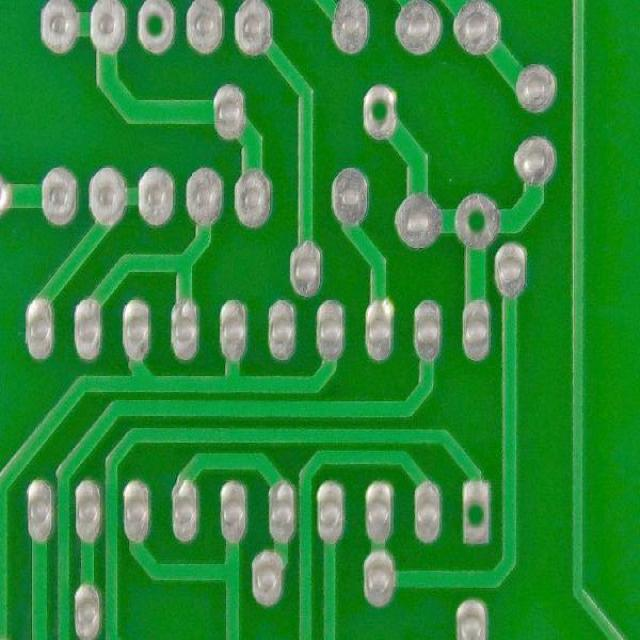missing hole: (454, 470, 502, 550), (358, 76, 406, 149), (452, 189, 503, 251), (134, 1, 177, 60)
